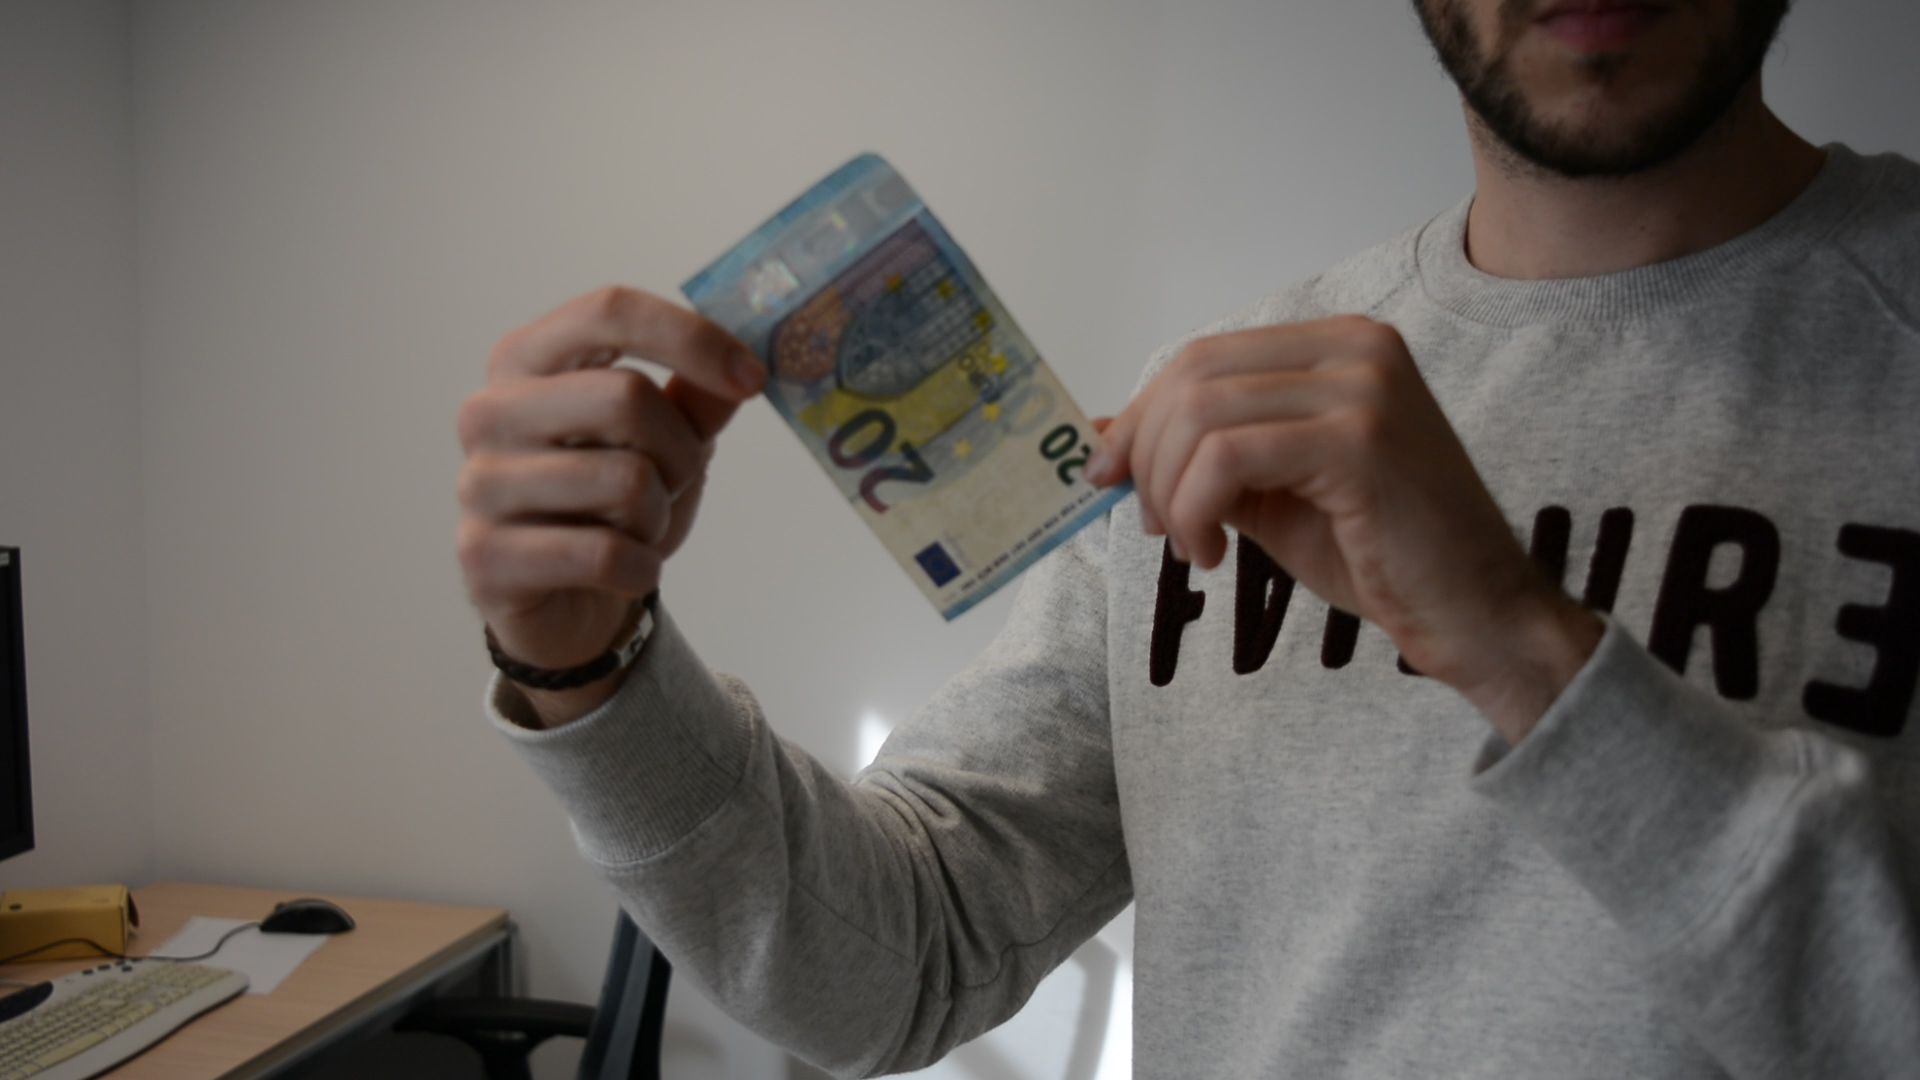billete: (675, 149, 1141, 629)
